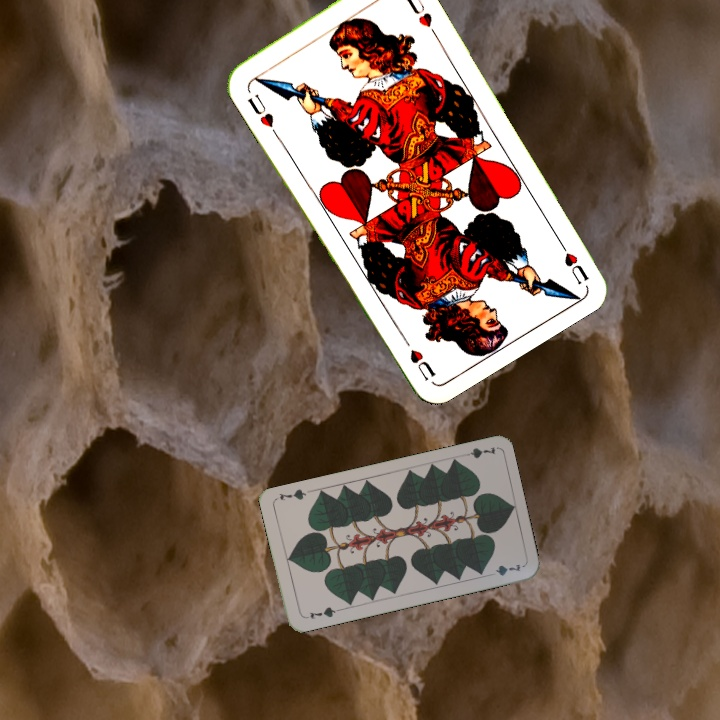G7: (457, 442, 498, 461), (305, 603, 341, 622)
HU: (552, 233, 591, 287), (243, 89, 277, 131)
